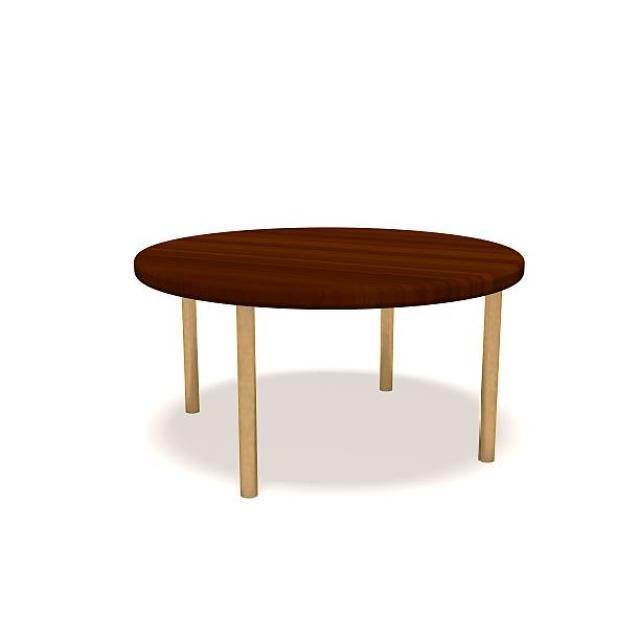table: (133, 225, 525, 498)
